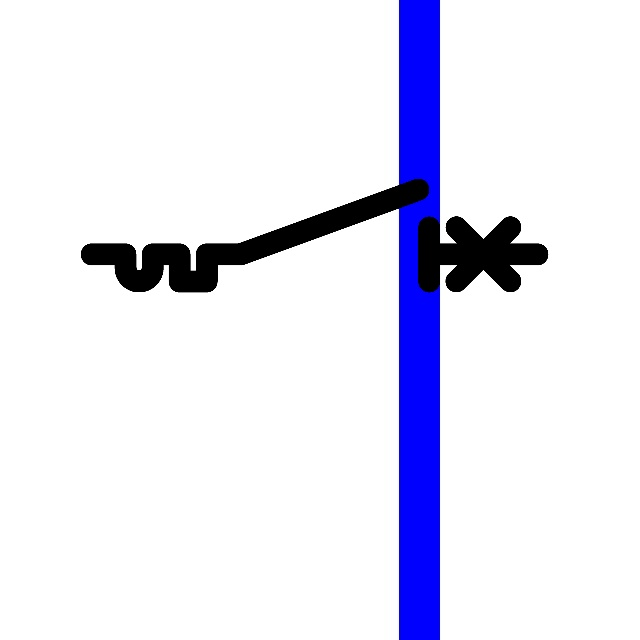interruptor_termomagnetico: (80, 178, 549, 293)
